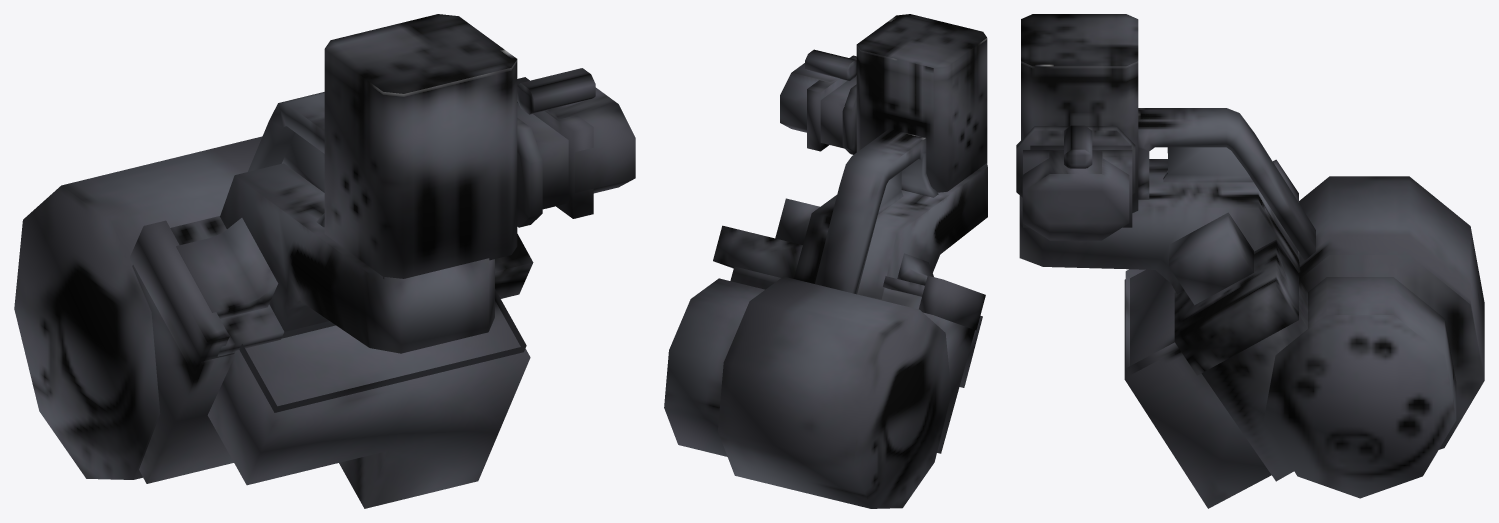
The model's file is l_clav.dae.
3 views of the same model, side by side, from view 1: azimuth 30°, elevation 25°; view 2: azimuth 150°, elevation 25°; view 3: azimuth 270°, elevation 25° (orthographic). The views are drawn at different scales.
Parts seen in each view (by area): view 1: l_clav; view 2: l_clav; view 3: l_clav.
Boxes of the visible parts, x1=… form: l_clav: x1=14, y1=14, x2=635, y2=508; l_clav: x1=664, y1=14, x2=987, y2=508; l_clav: x1=1016, y1=14, x2=1484, y2=508.
Size of the model in its own units: 0.1202 by 0.1828 by 0.1793.
1 material, 1 textured.
